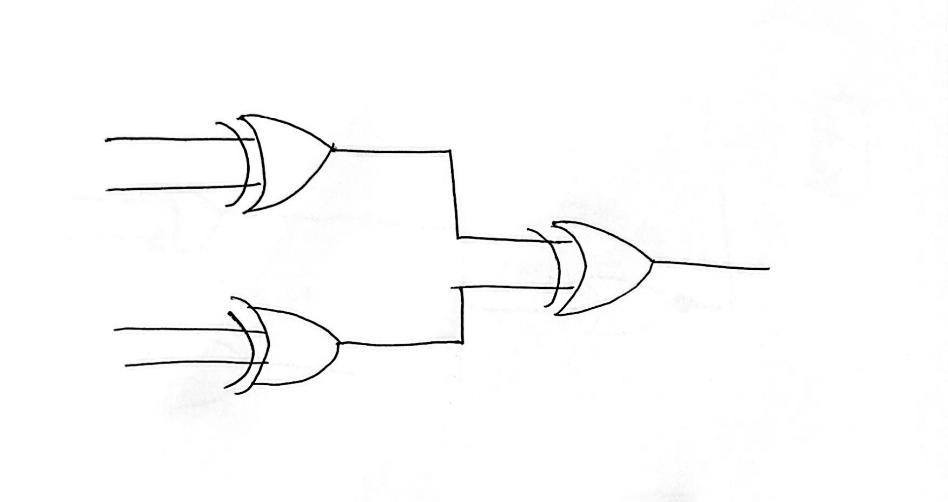XOR: (195, 102, 372, 225), (522, 201, 677, 337), (203, 284, 361, 404)
